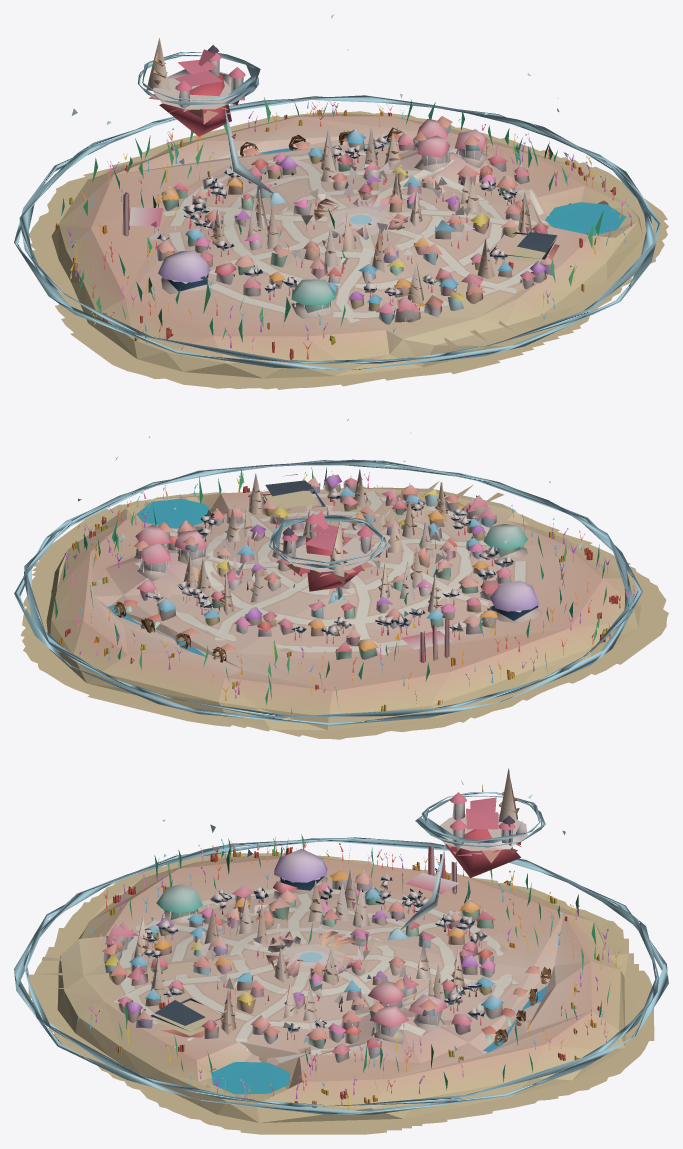
3 renders of one model, top to bottom at view 1: azimuth 30°, elevation 25°; view 2: azimuth 150°, elevation 25°; view 3: azimuth 270°, elevation 25°, orthographic. The views are drawn at different scales.
Parts seen in each view (by area): view 1: BASE, VILLE_2, VILLE_3, VILLE_4; view 2: BASE, VILLE_2, VILLE_3, VILLE_4; view 3: BASE, VILLE_2, VILLE_3, VILLE_4.
Boxes of the visible parts, x1=… form: BASE: x1=14, y1=14, x2=668, y2=389; VILLE_2: x1=158, y1=128, x2=532, y2=318; VILLE_3: x1=122, y1=116, x2=555, y2=310; VILLE_4: x1=490, y1=232, x2=559, y2=262; BASE: x1=14, y1=419, x2=668, y2=739; VILLE_2: x1=167, y1=469, x2=542, y2=640; VILLE_3: x1=114, y1=473, x2=513, y2=662; VILLE_4: x1=261, y1=474, x2=325, y2=510; BASE: x1=14, y1=768, x2=668, y2=1134; VILLE_2: x1=129, y1=848, x2=493, y2=1048; VILLE_3: x1=117, y1=846, x2=551, y2=1062; VILLE_4: x1=150, y1=998, x2=222, y2=1037.
Size of the model in its own units: 65.98 by 19.68 by 64.93.
